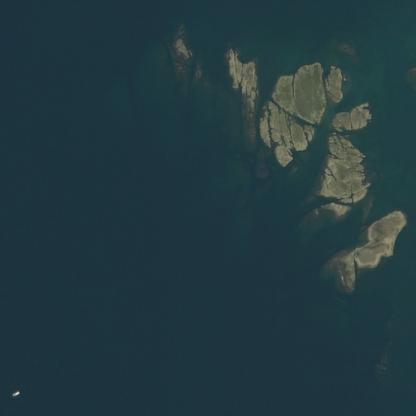ship: (12, 372, 19, 377)
